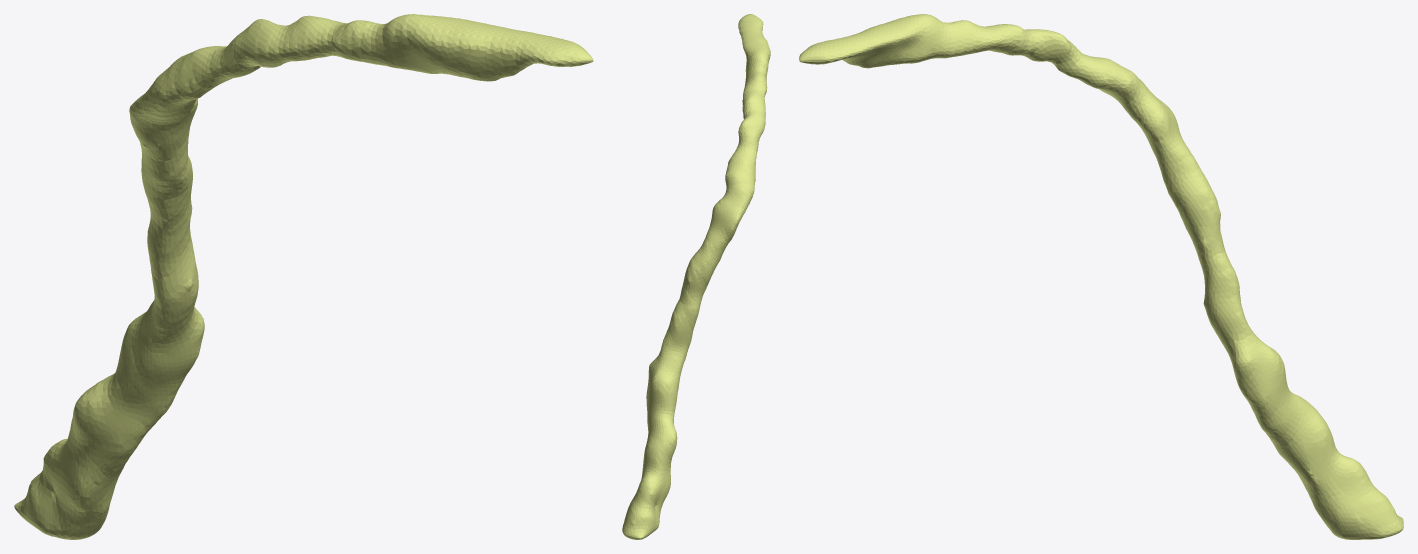
Rendered from FacialNerve.glb.
3 renders of one model, left to right at view 1: azimuth 30°, elevation 25°; view 2: azimuth 150°, elevation 25°; view 3: azimuth 270°, elevation 25°, orthographic. The views are drawn at different scales.
Visible parts, largest first — view 1: FacialNerve; view 2: FacialNerve; view 3: FacialNerve.
Boxes of the visible parts, x1,y1,x2,y2 form: FacialNerve: [14, 14, 593, 539]; FacialNerve: [622, 14, 770, 539]; FacialNerve: [799, 14, 1403, 539].
Bounding box in the file's own units: 5.76 × 17.52 × 17.72.
